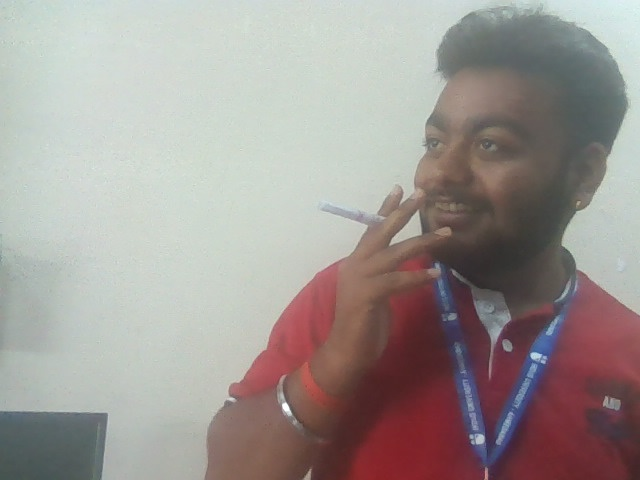smoking: (312, 189, 447, 362)
